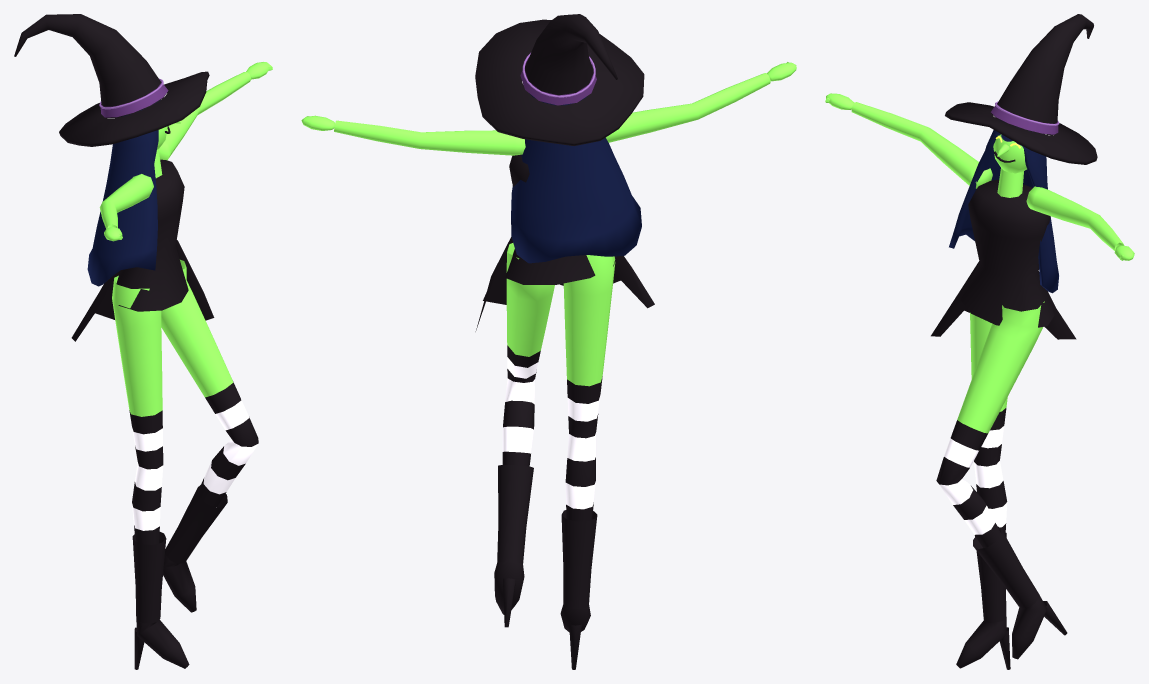
File: witch_happy_spin.glb
The picture shows the model from 3 angles, left to right: view 1: azimuth 30°, elevation 25°; view 2: azimuth 150°, elevation 25°; view 3: azimuth 270°, elevation 25°; orthographic projection. The views are drawn at different scales.
Parts seen in each view (by area): view 1: HWG_WitchHappy_spin; view 2: HWG_WitchHappy_spin; view 3: HWG_WitchHappy_spin.
Part boxes in pixels (x1,y1,x2,y2): HWG_WitchHappy_spin: (14,14,272,669); HWG_WitchHappy_spin: (301,14,796,669); HWG_WitchHappy_spin: (825,14,1134,669).
Size of the model in its own units: 0.6815 by 1.34 by 0.5945.
